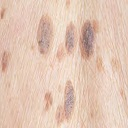Actinic: (34, 15, 99, 59), (55, 78, 76, 123)
